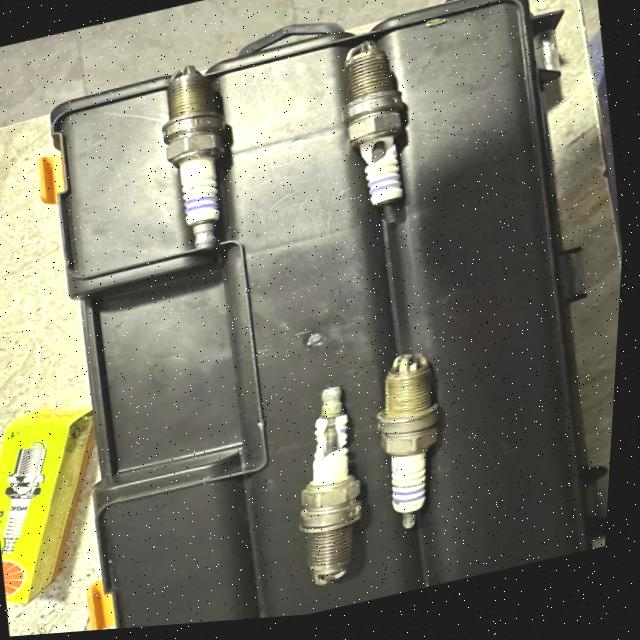damaged_spark-plug: (270, 371, 391, 603), (318, 24, 439, 246)
spark-plug: (119, 54, 253, 283), (354, 338, 474, 548)
